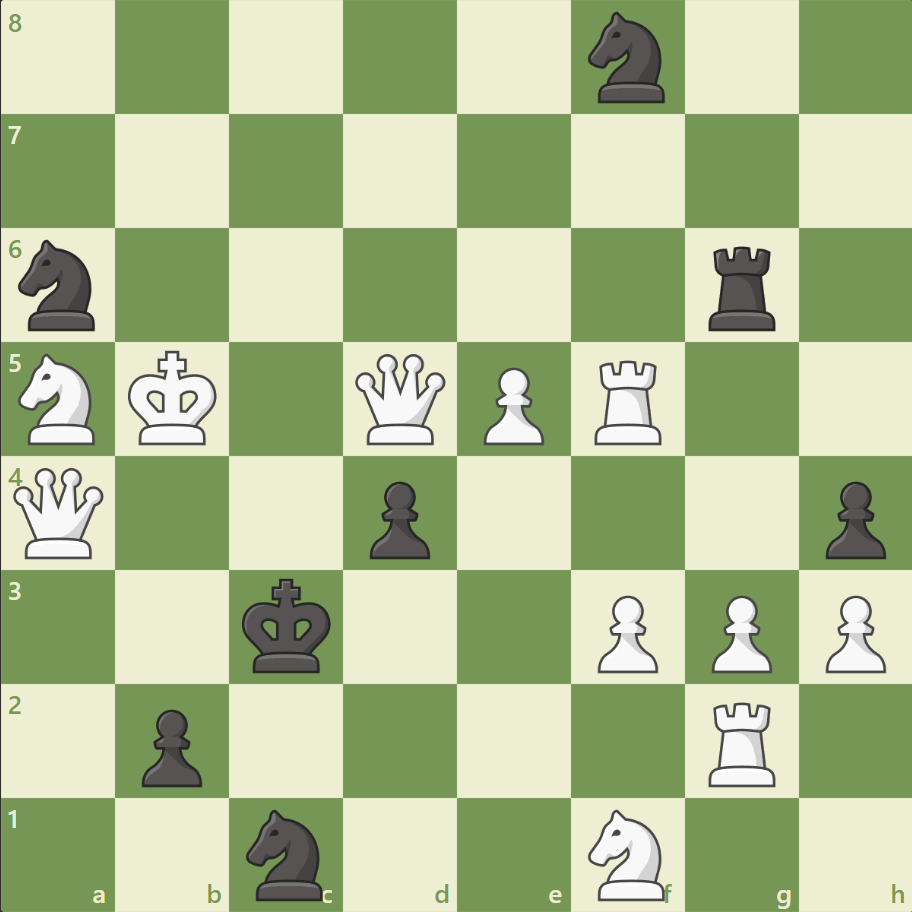K: (124, 344, 224, 452)
N: (11, 348, 108, 450), (579, 802, 676, 904)
P: (474, 359, 549, 450), (701, 586, 776, 677), (588, 586, 662, 677), (815, 586, 889, 677)
Q: (351, 349, 450, 449), (10, 463, 109, 562)
R: (587, 352, 670, 449), (700, 693, 783, 790)
k: (238, 571, 338, 679)
n: (579, 7, 676, 110), (11, 234, 108, 337), (238, 802, 335, 904)
p: (133, 700, 208, 791), (361, 473, 435, 564), (815, 473, 889, 564)
r: (700, 239, 783, 336)
